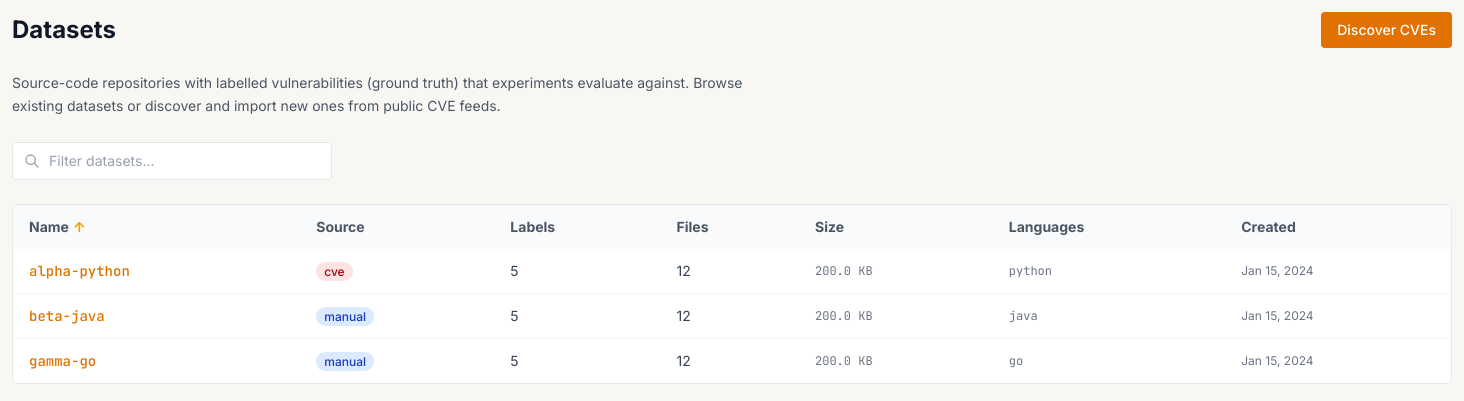
Test: Datasets — filter interaction › shows count indicator when filter is active
The image size is (1464, 401).
Expected: the text "alpha-python" is shown, [13,248,300,293]
In the field with placeholder "Filter datasets…": (172, 160) [12,142,332,180], type "beta"
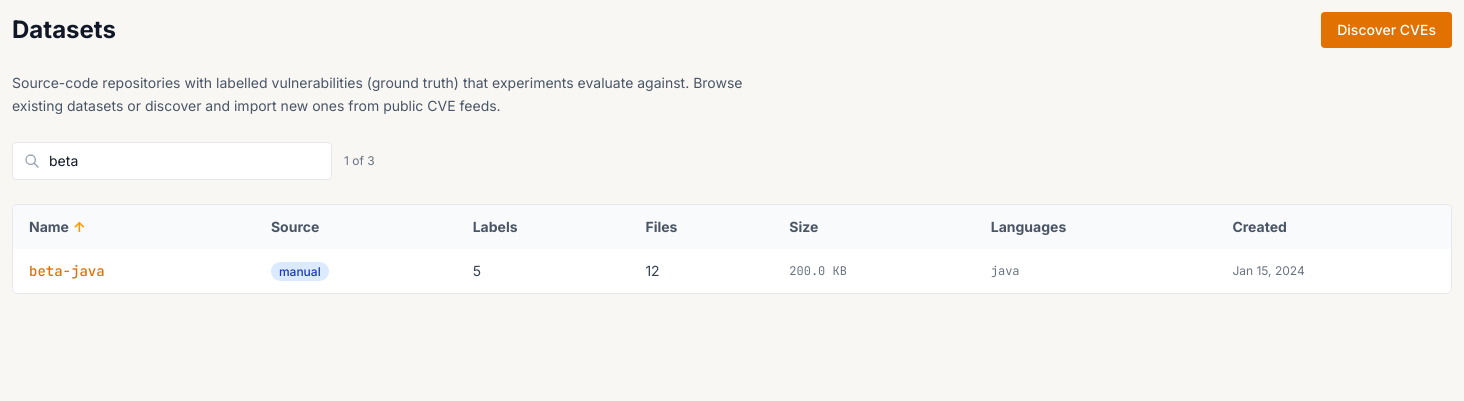
Expected: the text "1 of 3" is shown, [344,152,375,168]
